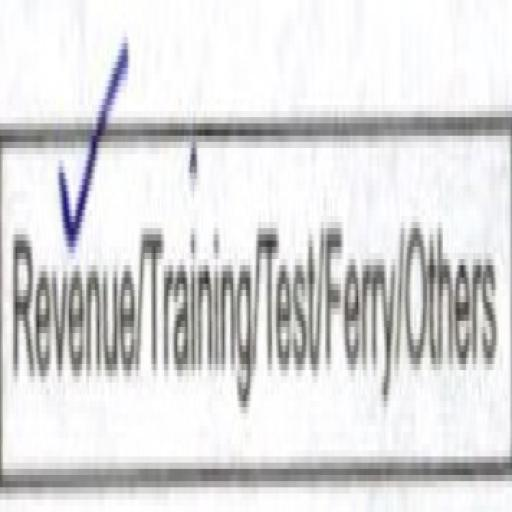check: (0, 74, 140, 486)
